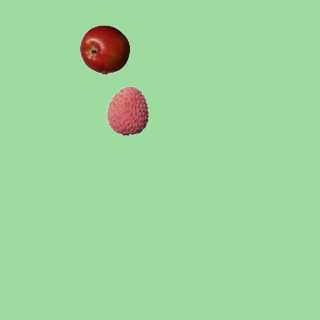Apple Braeburn: (79, 24, 129, 74)
Lychee: (102, 85, 152, 135)
